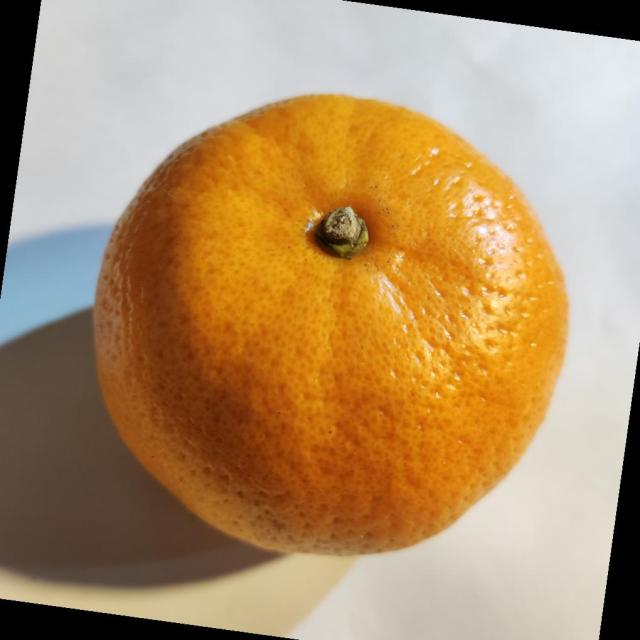fresh orange: (91, 91, 570, 557)
